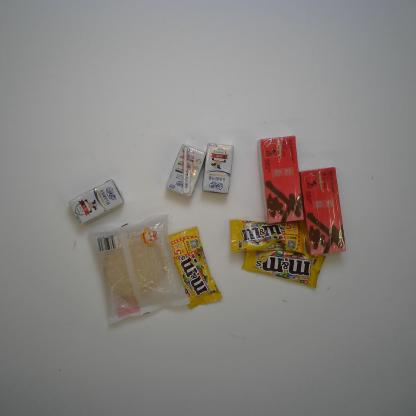Chocolate: (166, 226, 223, 310), (242, 241, 326, 289), (229, 219, 308, 255)
Dessert: (88, 213, 190, 326)
Instant Drink: (299, 167, 346, 256), (258, 135, 304, 224)
Milk: (68, 180, 124, 224), (166, 144, 206, 197), (202, 143, 234, 194)
